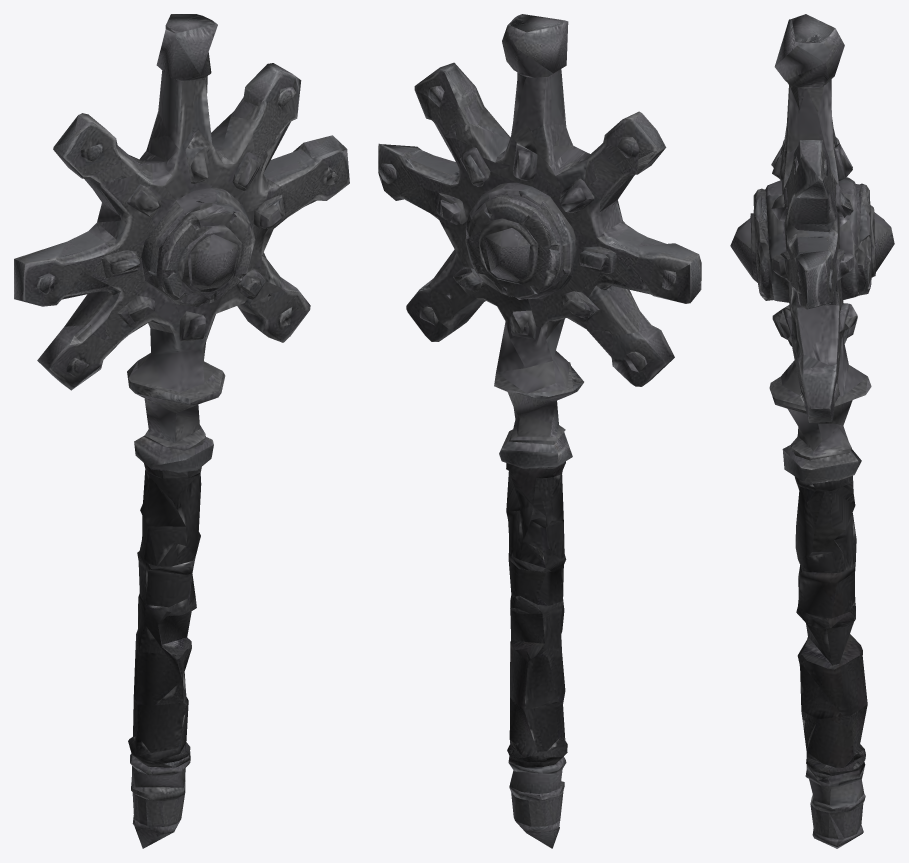
Rendered from weapon-mace.glb.
3 renders of one model, left to right at view 1: azimuth 30°, elevation 25°; view 2: azimuth 150°, elevation 25°; view 3: azimuth 270°, elevation 25°, orthographic. The views are drawn at different scales.
Size of the model in its own units: 0.2421 by 0.5877 by 0.1044.
1 material, 1 textured.
